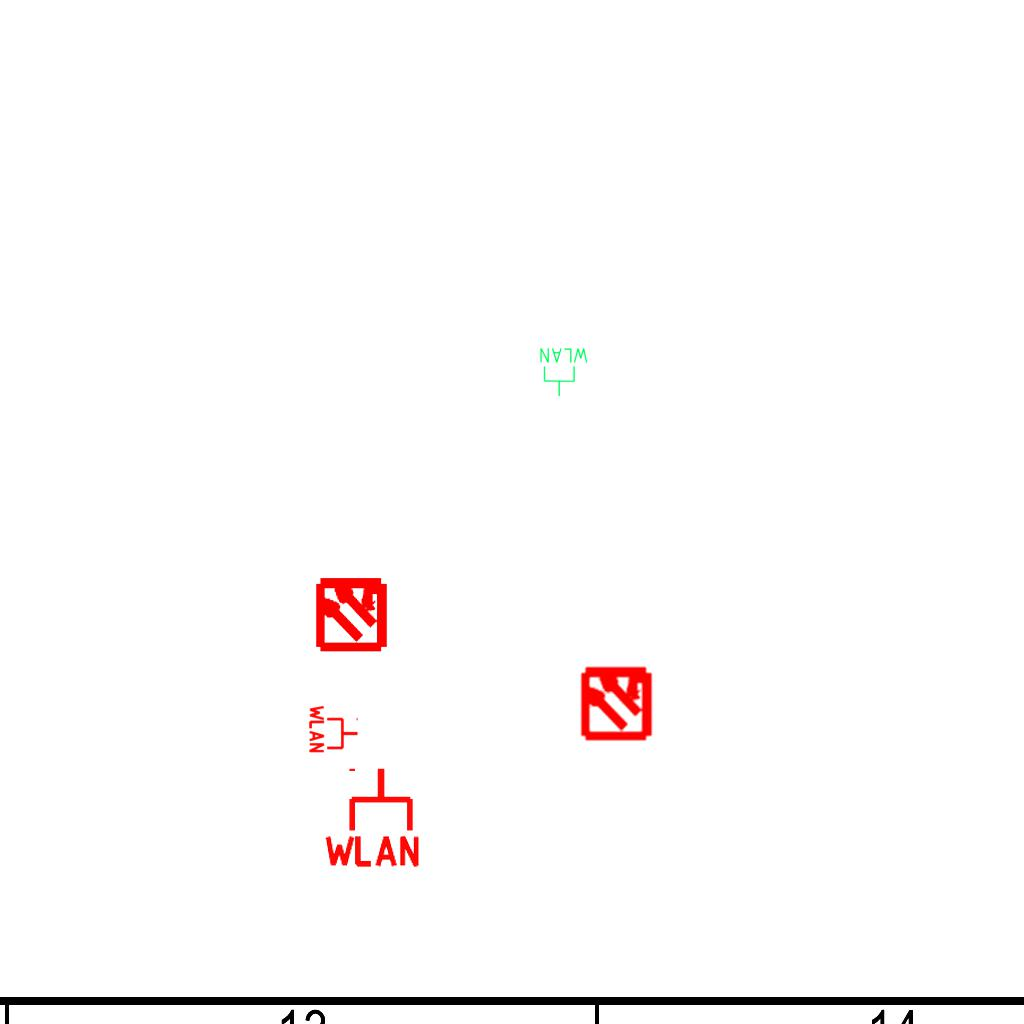OT_Multisensormelder_(Kombination_RMO_WMD): (560, 645, 673, 758), (295, 556, 408, 669)
WLAN: (320, 764, 424, 869), (308, 703, 360, 755), (538, 346, 590, 398)
